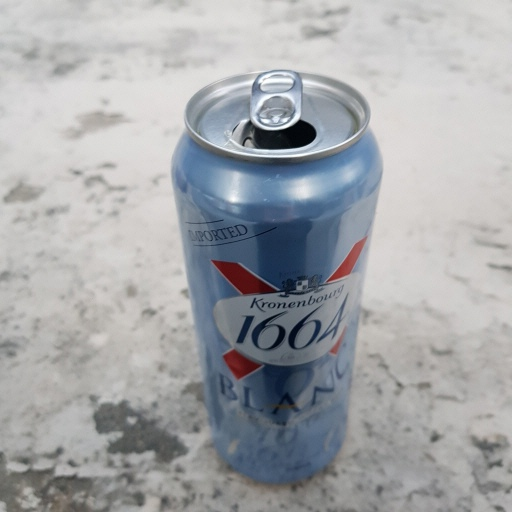Metal_0: (168, 69, 383, 483)
